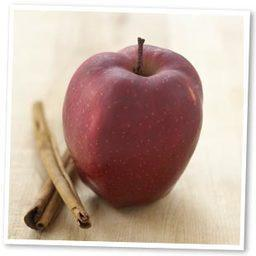apple: (59, 42, 204, 209)
